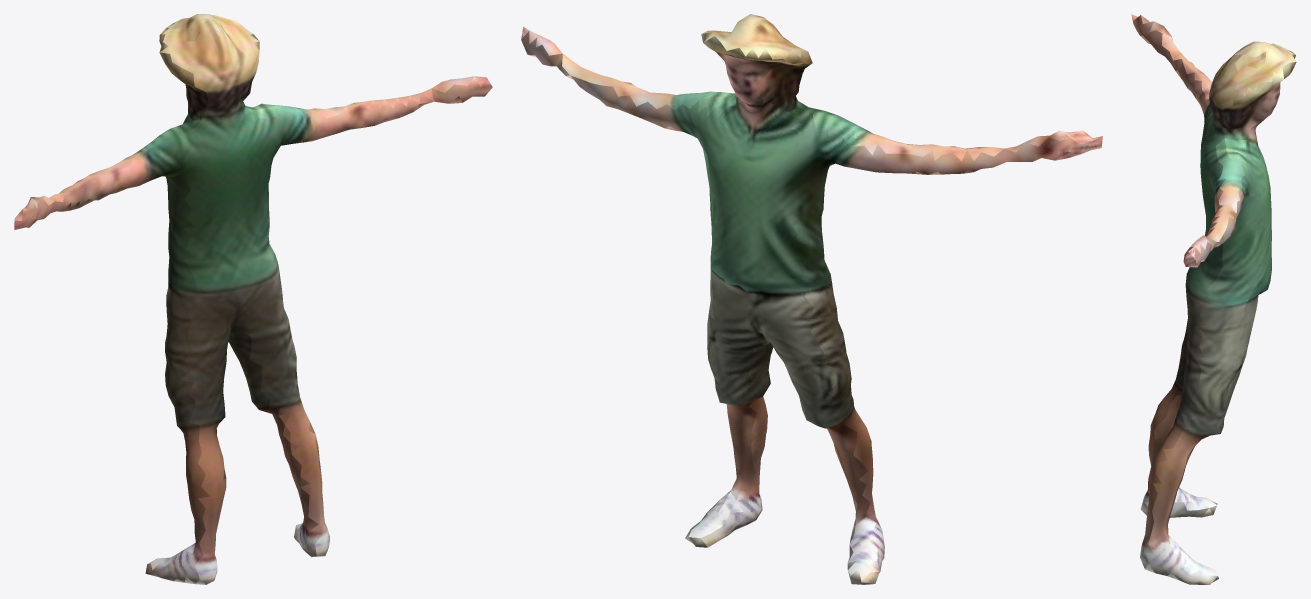
3 renders of one model, left to right at view 1: azimuth 30°, elevation 25°; view 2: azimuth 150°, elevation 25°; view 3: azimuth 270°, elevation 25°, orthographic. The views are drawn at different scales.
Parts seen in each view (by area): view 1: world; view 2: world; view 3: world.
Part boxes in pixels (left/top/right/bottom): world: left=14, top=14, right=492, bottom=584; world: left=521, top=14, right=1102, bottom=584; world: left=1131, top=14, right=1296, bottom=584.
Size of the model in its own units: 0.9634 by 0.9485 by 0.2817.
Materials: 1 (1 with a texture image).
